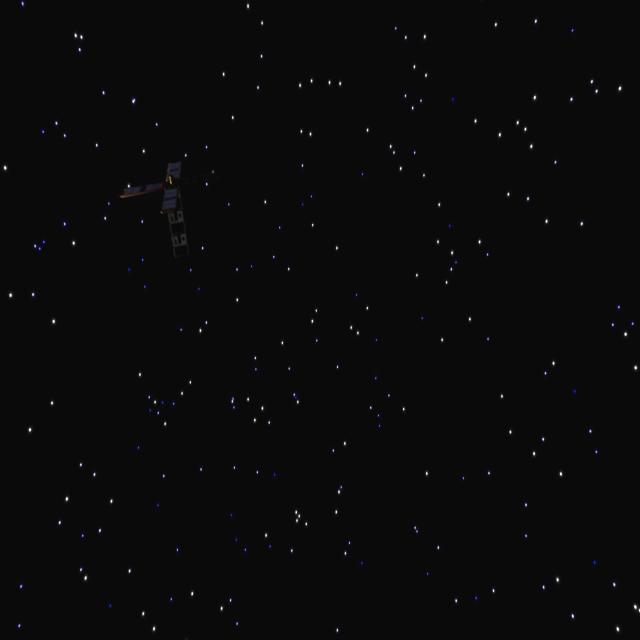satellite: (121, 156, 203, 259)
